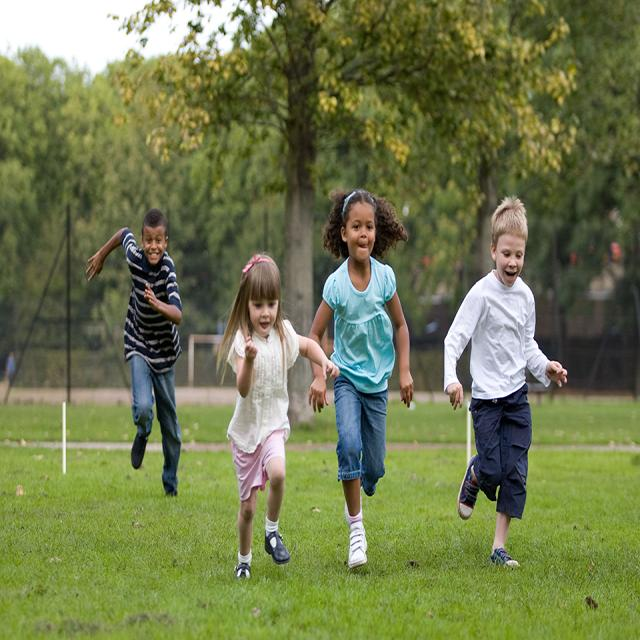Person: (445, 196, 567, 566), (220, 252, 340, 582), (310, 188, 414, 567), (88, 208, 182, 496)
